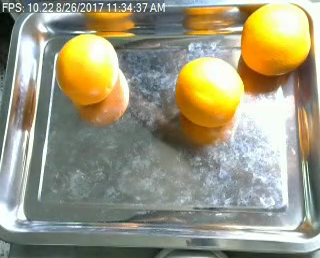Orange: (241, 3, 310, 75), (174, 56, 244, 126), (56, 34, 119, 105)
